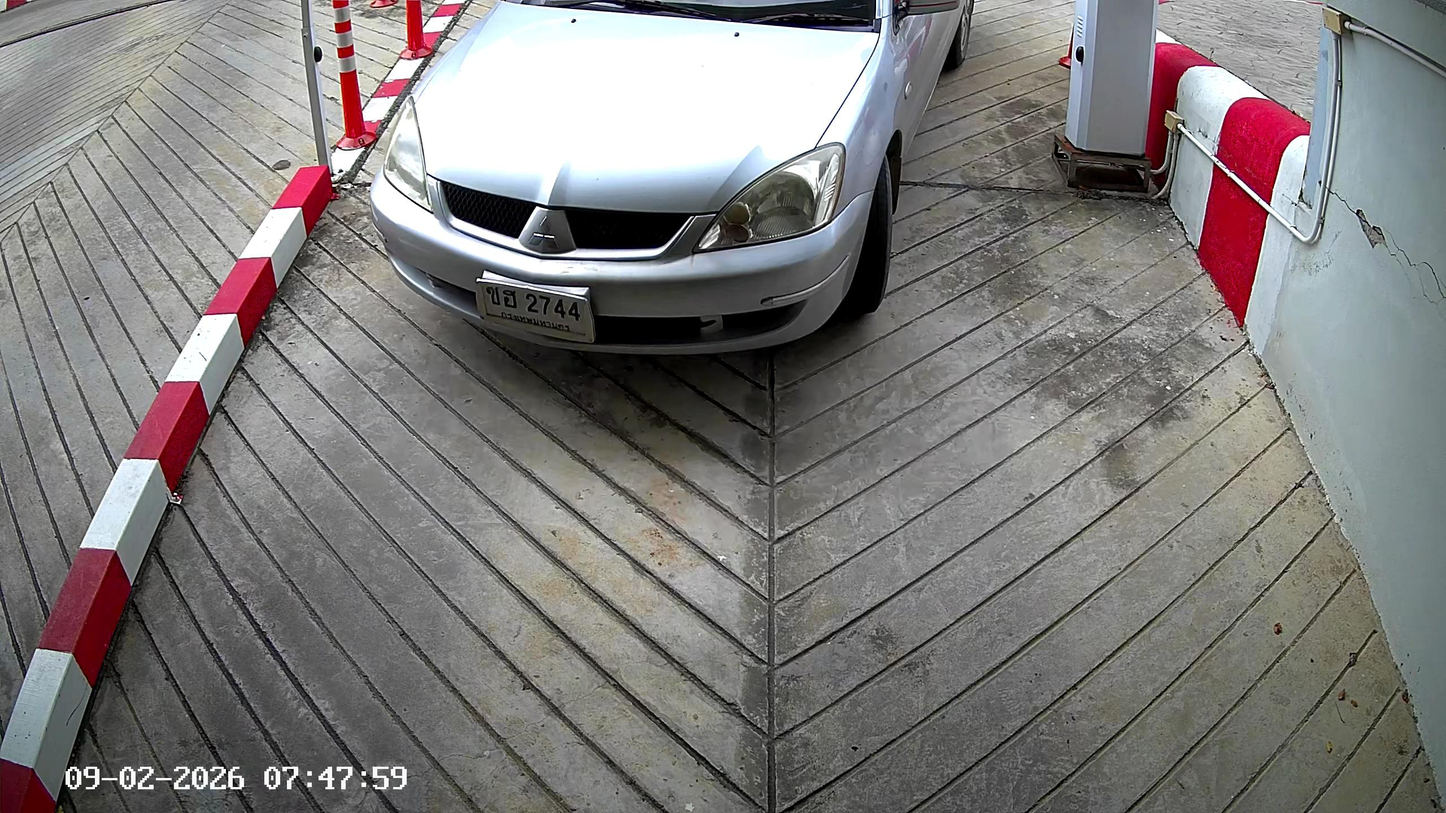car: (372, 5, 976, 359)
license-plate: (475, 270, 598, 351)
